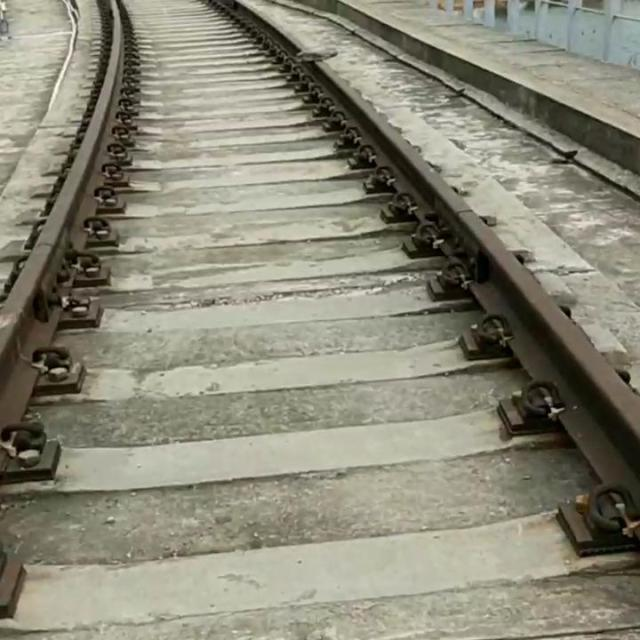rail: (306, 66, 640, 515), (1, 1, 123, 427), (222, 1, 307, 58)
